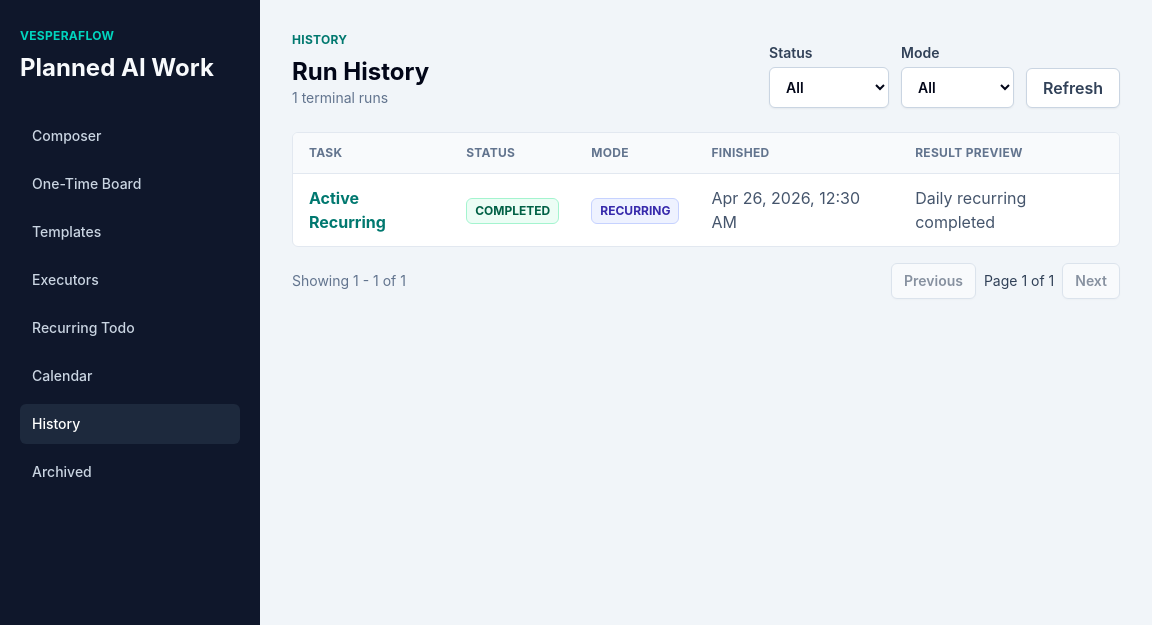
it: App › opens recurring history items in run detail
Click the button "Active Recurring": x=372, y=210 [309,186,434,234]
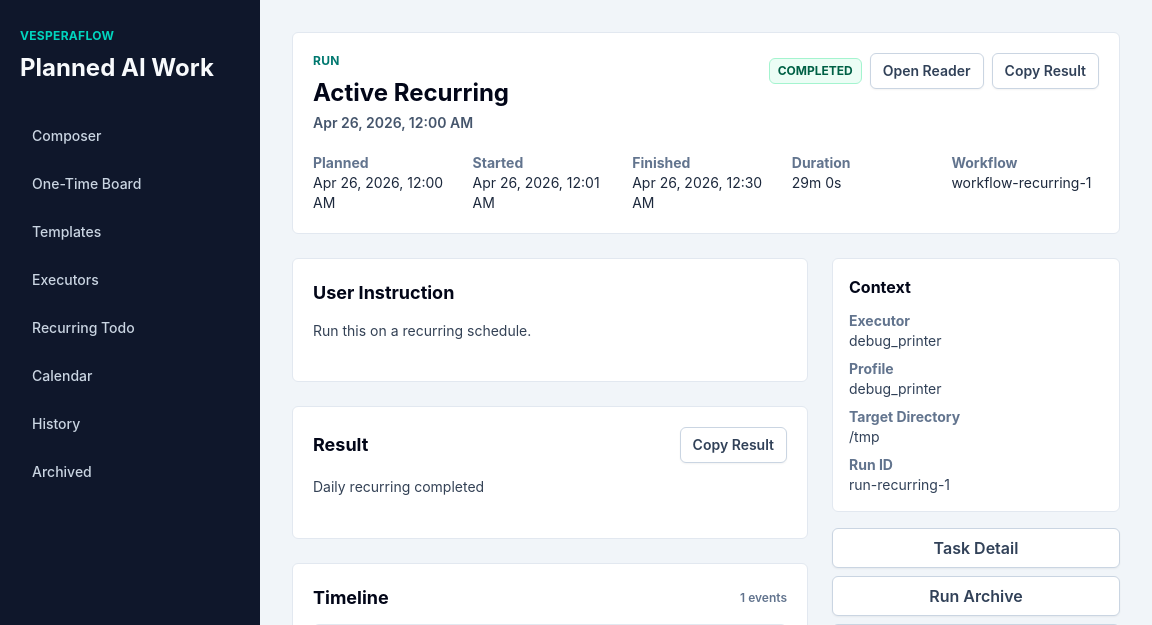
expect the text "run-recurring-1" is shown: met, box [849,476,950,493]
expect the text "Open Reader" is shown: met, box [870,53,984,89]
